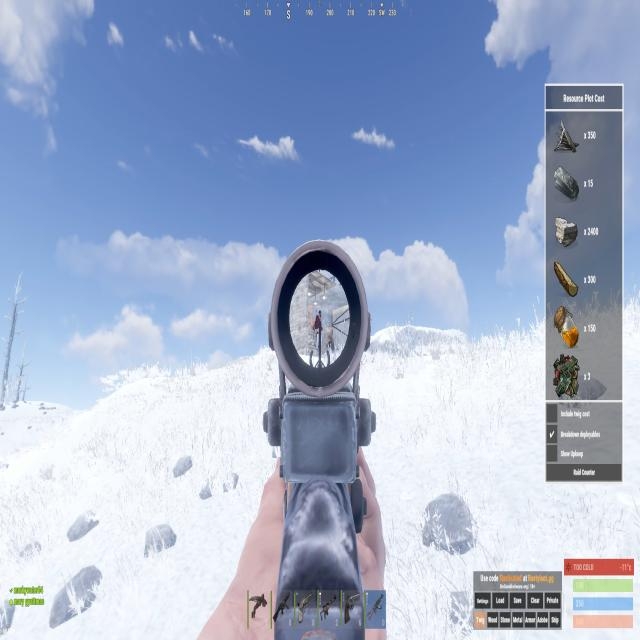Player: (314, 309, 324, 350)
